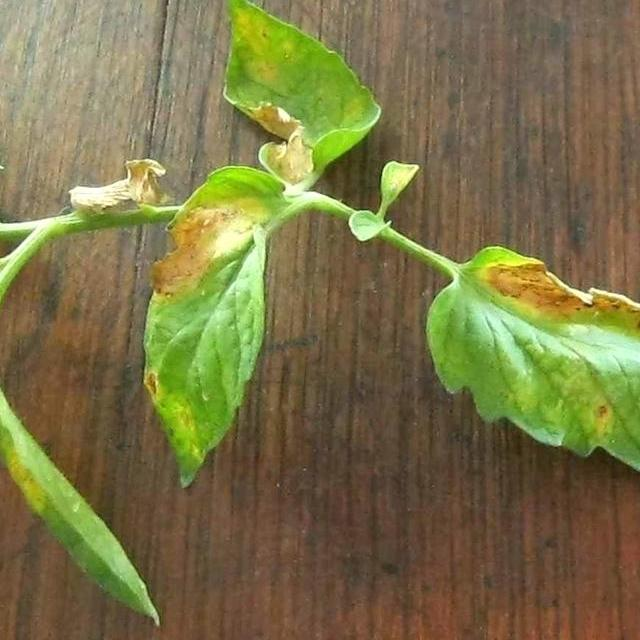Tomato Early blight leaf: (424, 248, 640, 502), (138, 152, 294, 501)
